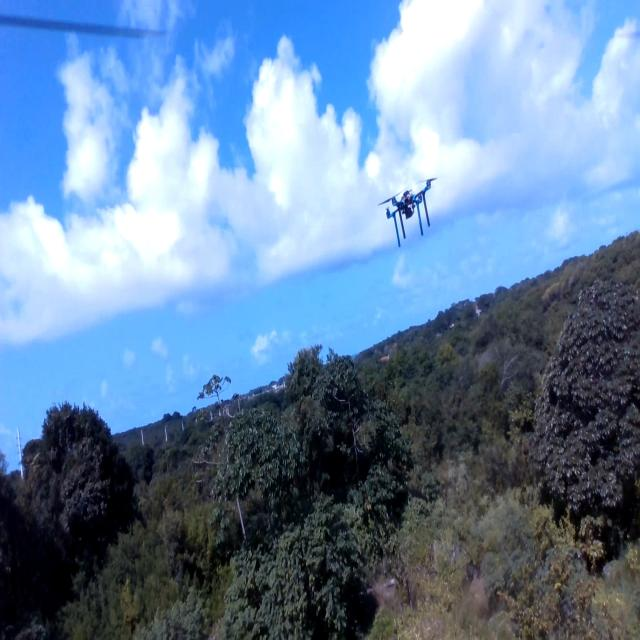-uav-: (369, 165, 443, 254)
